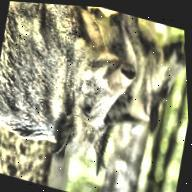boar: (0, 0, 165, 192)
